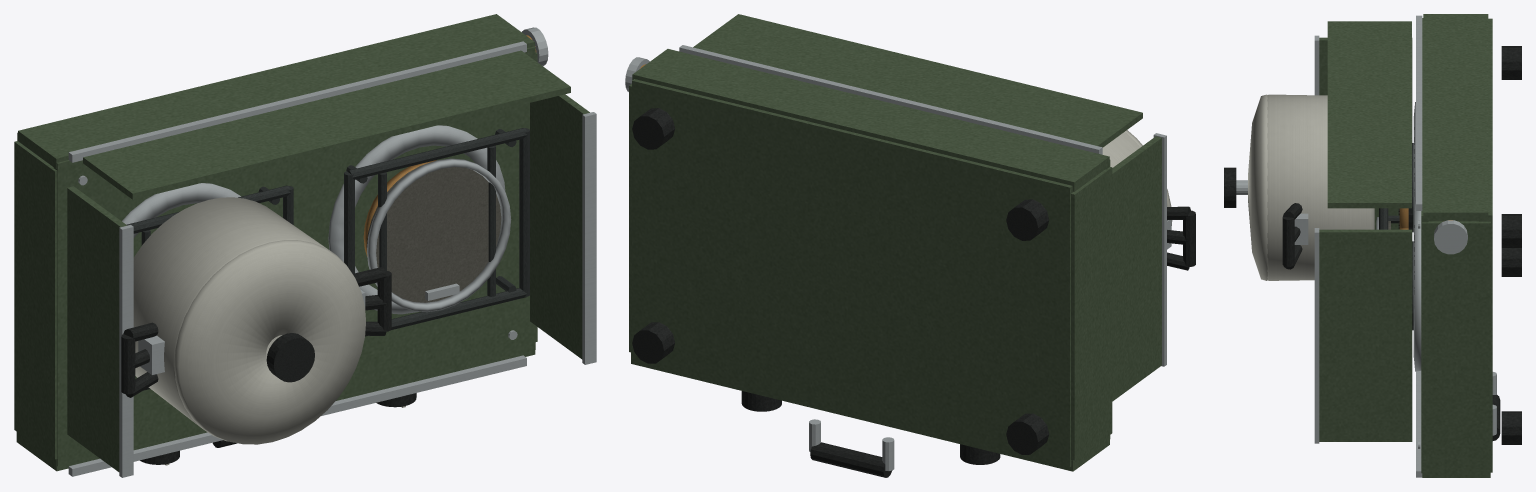
File: PROJECT_Z_Camp_Cooking_Stove.glb
The picture shows the model from 3 angles, left to right: view 1: azimuth 30°, elevation 25°; view 2: azimuth 150°, elevation 25°; view 3: azimuth 270°, elevation 25°; orthographic projection. The views are drawn at different scales.
Parts seen in each view (by area): view 1: RENDER_Chassis_TopPanel, RENDER_PotLid_DomedMetal, RENDER_Windguard_BackPlate, RENDER_Chassis_RearWall, RENDER_Windguard_LeftPlate, RENDER_Cookpot_HollowShell, RENDER_Windguard_RightPlate, RENDER_Chassis_LeftWall, RENDER_Cover_RoundPlate, RENDER_Grill_R_SupportBars, RENDER_Chassis_RearTrim, RENDER_Burner_R_DripDish (+11 smaller); view 2: RENDER_Chassis_BottomTray, RENDER_Windguard_BackPlate, RENDER_Chassis_RearWall, RENDER_Windguard_LeftPlate, RENDER_Chassis_LeftWall, RENDER_Chassis_RearTrim, RENDER_Chassis_FrontLedge, RENDER_CarryHandle_2, RENDER_Cookpot_Handle_L, RENDER_Foot_Right_Rear, RENDER_Foot_Left_Front, RENDER_Foot_Right_Front (+6 smaller); view 3: RENDER_Windguard_RightPlate, RENDER_Chassis_RightWall, RENDER_Windguard_BackPlate, RENDER_Chassis_RearWall, RENDER_Cookpot_HollowShell, RENDER_PotLid_DomedMetal, RENDER_Chassis_BottomTray, RENDER_Burner_R_DripDish, RENDER_Chassis_RearTrim, RENDER_Windguard_RightEdge, RENDER_Cookpot_Handle_R, RENDER_GasLine_Collar (+11 smaller).
Part boxes in pixels (box(x1,y1,x2,y2)): RENDER_Chassis_TopPanel: box(53, 46, 535, 466); RENDER_PotLid_DomedMetal: box(174, 240, 365, 444); RENDER_Windguard_BackPlate: box(83, 50, 570, 199); RENDER_Chassis_RearWall: box(18, 14, 534, 168); RENDER_Windguard_LeftPlate: box(67, 186, 126, 471); RENDER_Cookpot_HollowShell: box(133, 197, 332, 427); RENDER_Windguard_RightPlate: box(530, 94, 589, 359); RENDER_Chassis_LeftWall: box(14, 141, 57, 459); RENDER_Cover_RoundPlate: box(366, 161, 501, 302); RENDER_Grill_R_SupportBars: box(344, 128, 529, 336); RENDER_Chassis_RearTrim: box(68, 41, 526, 162); RENDER_Burner_R_DripDish: box(328, 125, 505, 314); RENDER_Chassis_BottomTray: box(632, 79, 1073, 466); RENDER_Windguard_BackPlate: box(693, 14, 1142, 147); RENDER_Chassis_RearWall: box(632, 49, 1109, 191); RENDER_Windguard_LeftPlate: box(1112, 136, 1161, 401); RENDER_Chassis_LeftWall: box(1071, 167, 1112, 460); RENDER_Chassis_RearTrim: box(679, 45, 1102, 154); RENDER_Chassis_FrontLedge: box(631, 352, 1109, 471); RENDER_CarryHandle_2: box(810, 442, 891, 477); RENDER_Cookpot_Handle_L: box(1167, 206, 1195, 270); RENDER_Foot_Right_Rear: box(632, 108, 674, 149); RENDER_Foot_Left_Front: box(1006, 413, 1048, 454); RENDER_Foot_Right_Front: box(632, 322, 674, 363); RENDER_Windguard_RightPlate: box(1319, 229, 1412, 441); RENDER_Chassis_RightWall: box(1422, 221, 1490, 468); RENDER_Windguard_BackPlate: box(1327, 21, 1411, 208); RENDER_Chassis_RearWall: box(1423, 14, 1488, 221); RENDER_Cookpot_HollowShell: box(1267, 94, 1374, 280); RENDER_PotLid_DomedMetal: box(1248, 94, 1267, 280); RENDER_Chassis_BottomTray: box(1479, 18, 1492, 472); RENDER_Burner_R_DripDish: box(1413, 200, 1421, 371); RENDER_Chassis_RearTrim: box(1416, 15, 1422, 210); RENDER_Windguard_RightEdge: box(1314, 228, 1319, 443); RENDER_Cookpot_Handle_R: box(1282, 203, 1302, 269); RENDER_GasLine_Collar: box(1434, 220, 1467, 254).
Bounding box in the file's own units: 0.6186 × 0.4285 × 0.367.
Materials: 8 (8 with a texture image).
